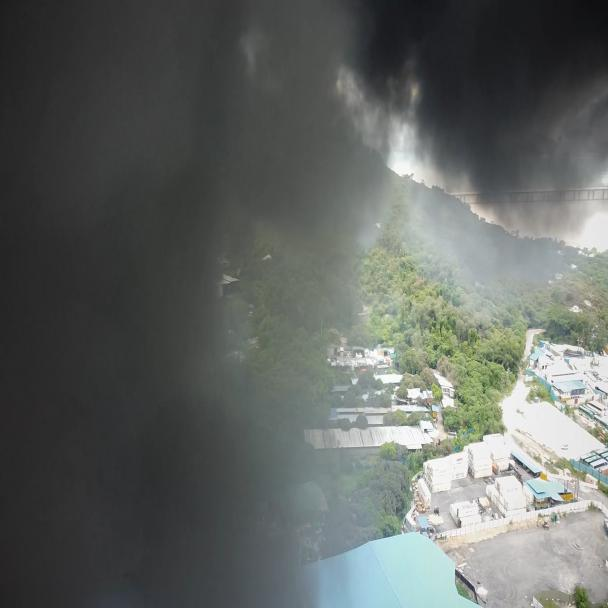smoke: (0, 6, 607, 607)
